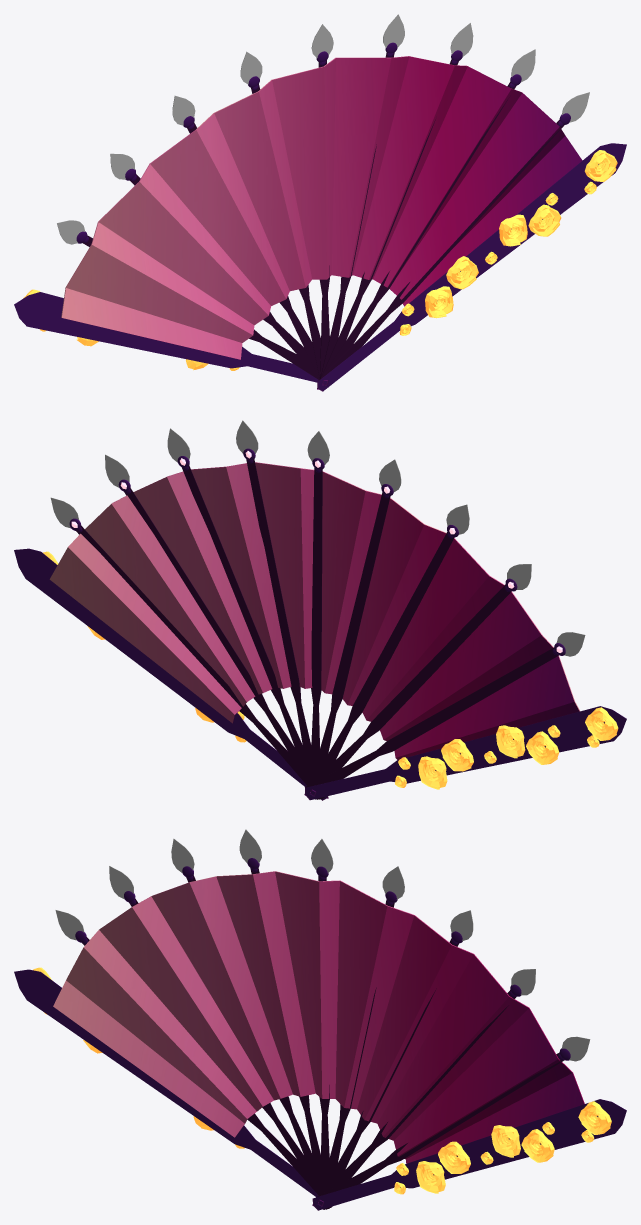
Rendered from fan-decorated.glb.
The picture shows the model from 3 angles, top to bottom: view 1: azimuth 30°, elevation 25°; view 2: azimuth 150°, elevation 25°; view 3: azimuth 330°, elevation 25°; orthographic projection.
Visible parts, largest first — view 1: PROP_6, PROP_0, PROP_3, PROP_7, PROP_2, PROP_4; view 2: PROP_6, PROP_3, PROP_0, PROP_8, PROP_2, PROP_4; view 3: PROP_6, PROP_0, PROP_3, PROP_7, PROP_2, PROP_4.
Part boxes in pixels (x1,y1,x2,y2): PROP_6: (61,56,582,359); PROP_0: (14,143,626,391); PROP_3: (83,52,564,381); PROP_7: (399,150,617,335); PROP_2: (57,14,589,244); PROP_4: (76,42,570,243); PROP_6: (49,462,579,759); PROP_3: (76,459,558,799); PROP_0: (14,548,626,799); PROP_8: (395,707,618,789); PROP_2: (50,420,585,656); PROP_4: (69,448,565,655); PROP_6: (53,871,584,1163); PROP_0: (14,969,626,1210); PROP_3: (82,867,564,1209); PROP_7: (394,1101,611,1194); PROP_2: (55,829,590,1061); PROP_4: (75,858,570,1060).
Size of the model in its own units: 0.33 by 0.1896 by 0.0129.
9 materials, 1 textured.
